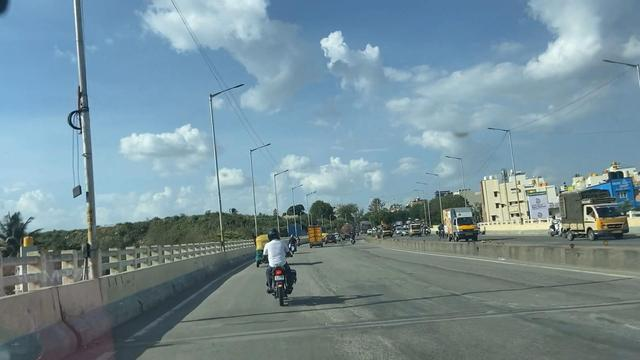HMV: (558, 163, 629, 244)
